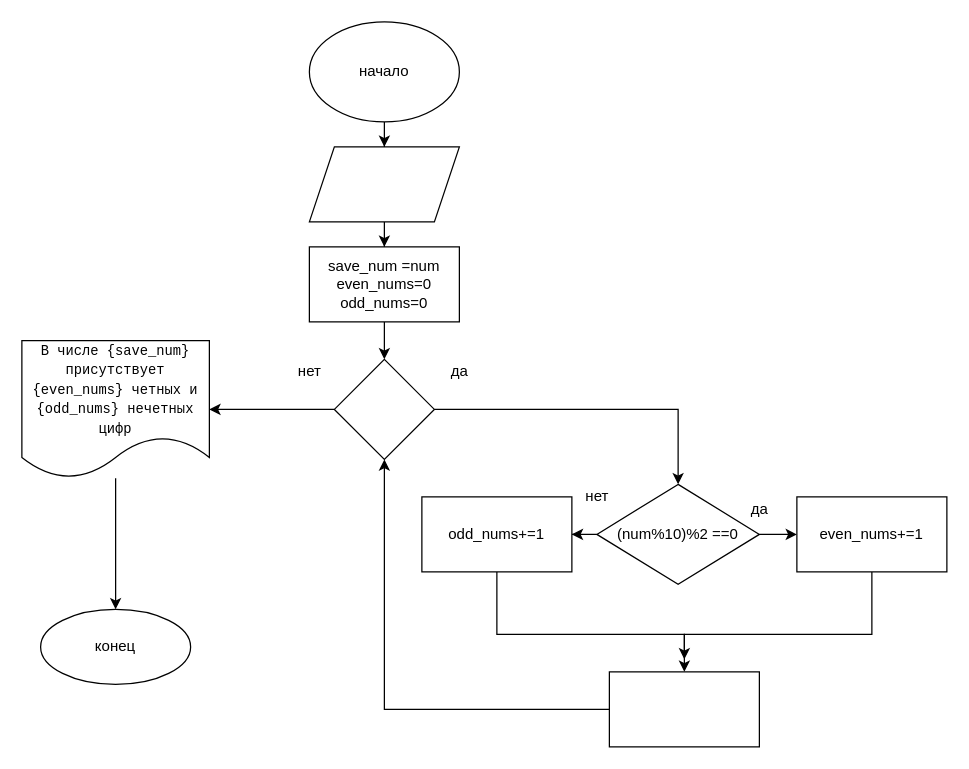
Some shapes in this 969 by 769 pixel diagram are drawn without their labels. The shapes that lost their labels are listed below. From the top down, each one's box as (x1, y1, x2, y2) in pixels, then its label:
(308, 146, 459, 222): num = input()
(333, 358, 434, 459): num != 0
(608, 671, 759, 747): num = num // 10
